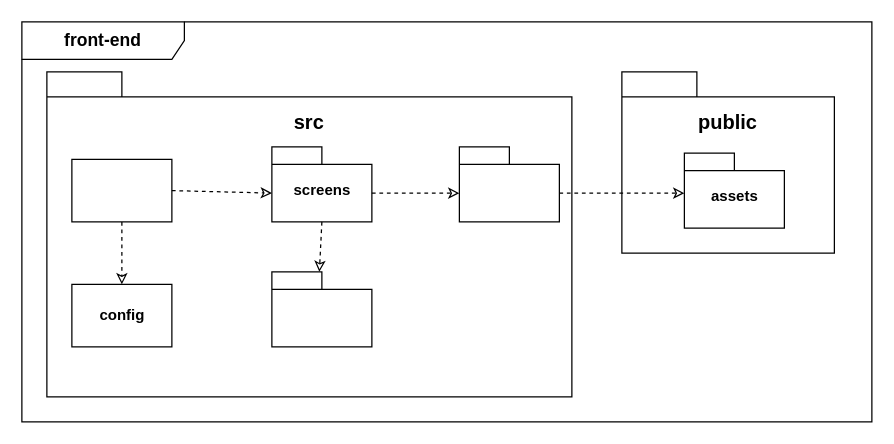
The diagram is 894 pixels wide and 444 high, and some of its shapes have lost their labels. Here are the shapes that lost their labels. From the top down, the centre of each, then its label:
pixel 121 190: index.js
pixel 508 184: components
pixel 321 309: utils
